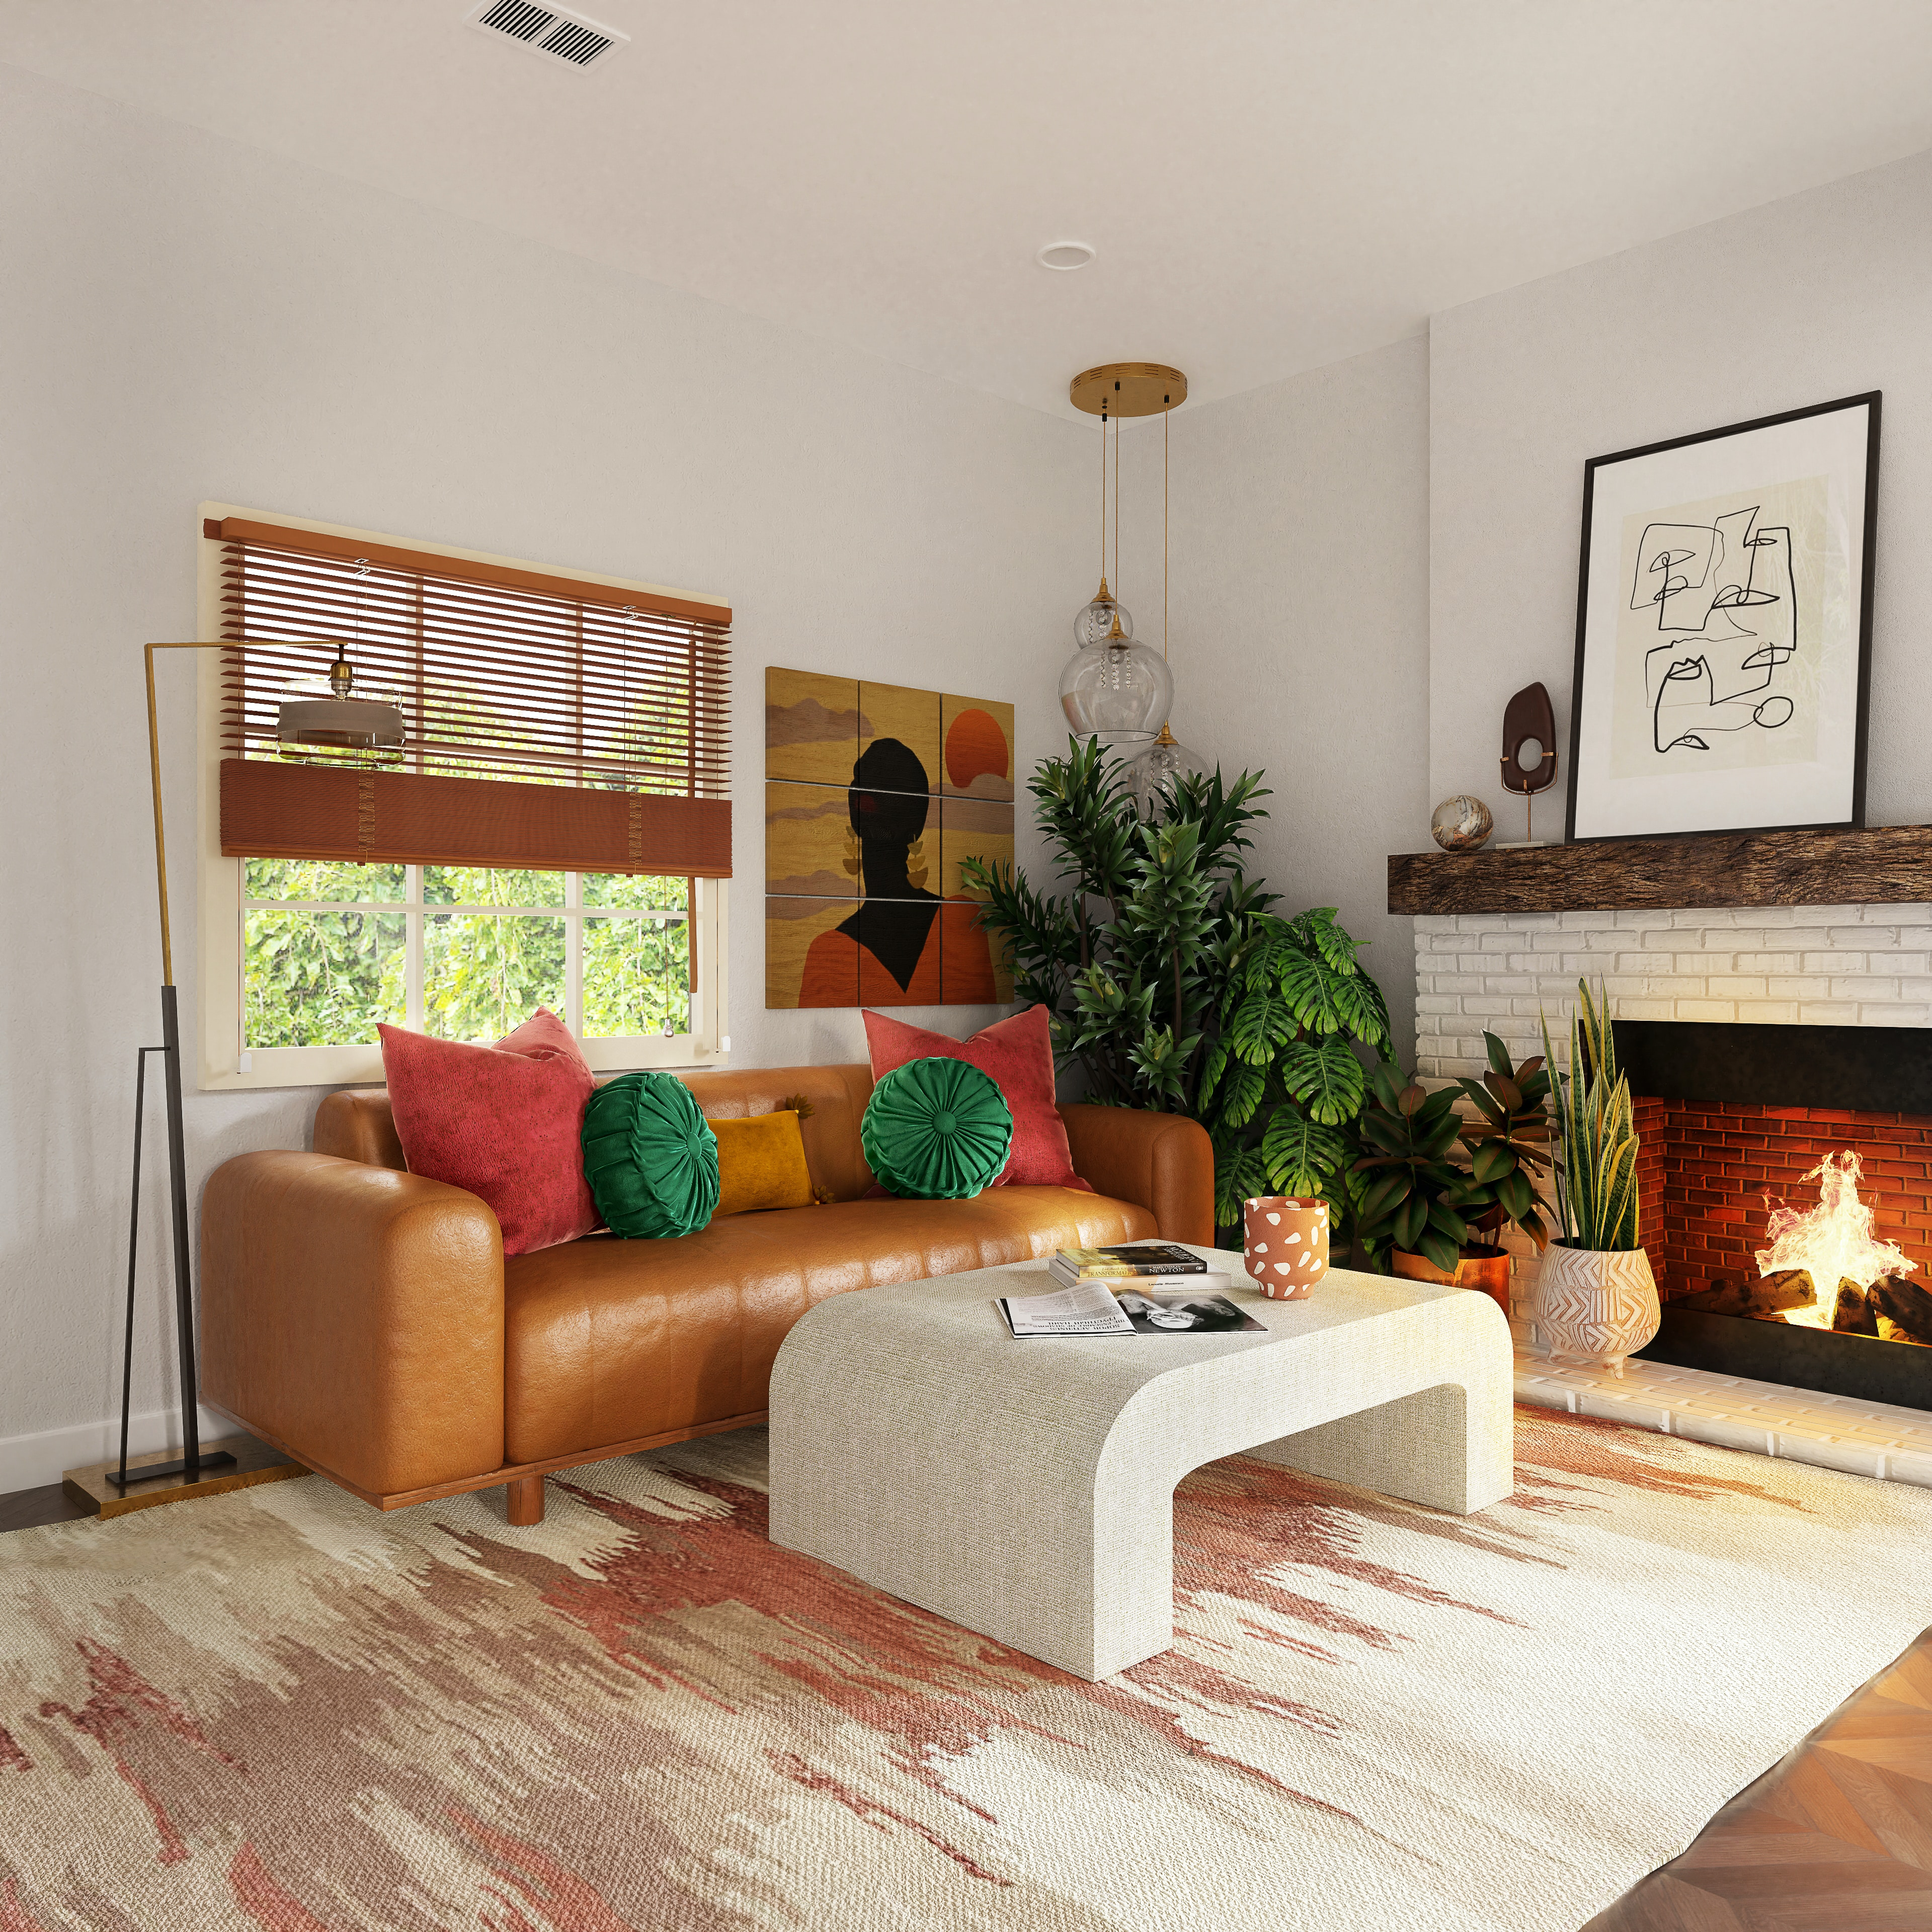Plant: (961, 711, 1247, 1090), (1161, 879, 1401, 1230)
Sofa: (150, 970, 1260, 1536), (1548, 363, 1902, 855)
Table: (724, 1182, 1621, 1690)
